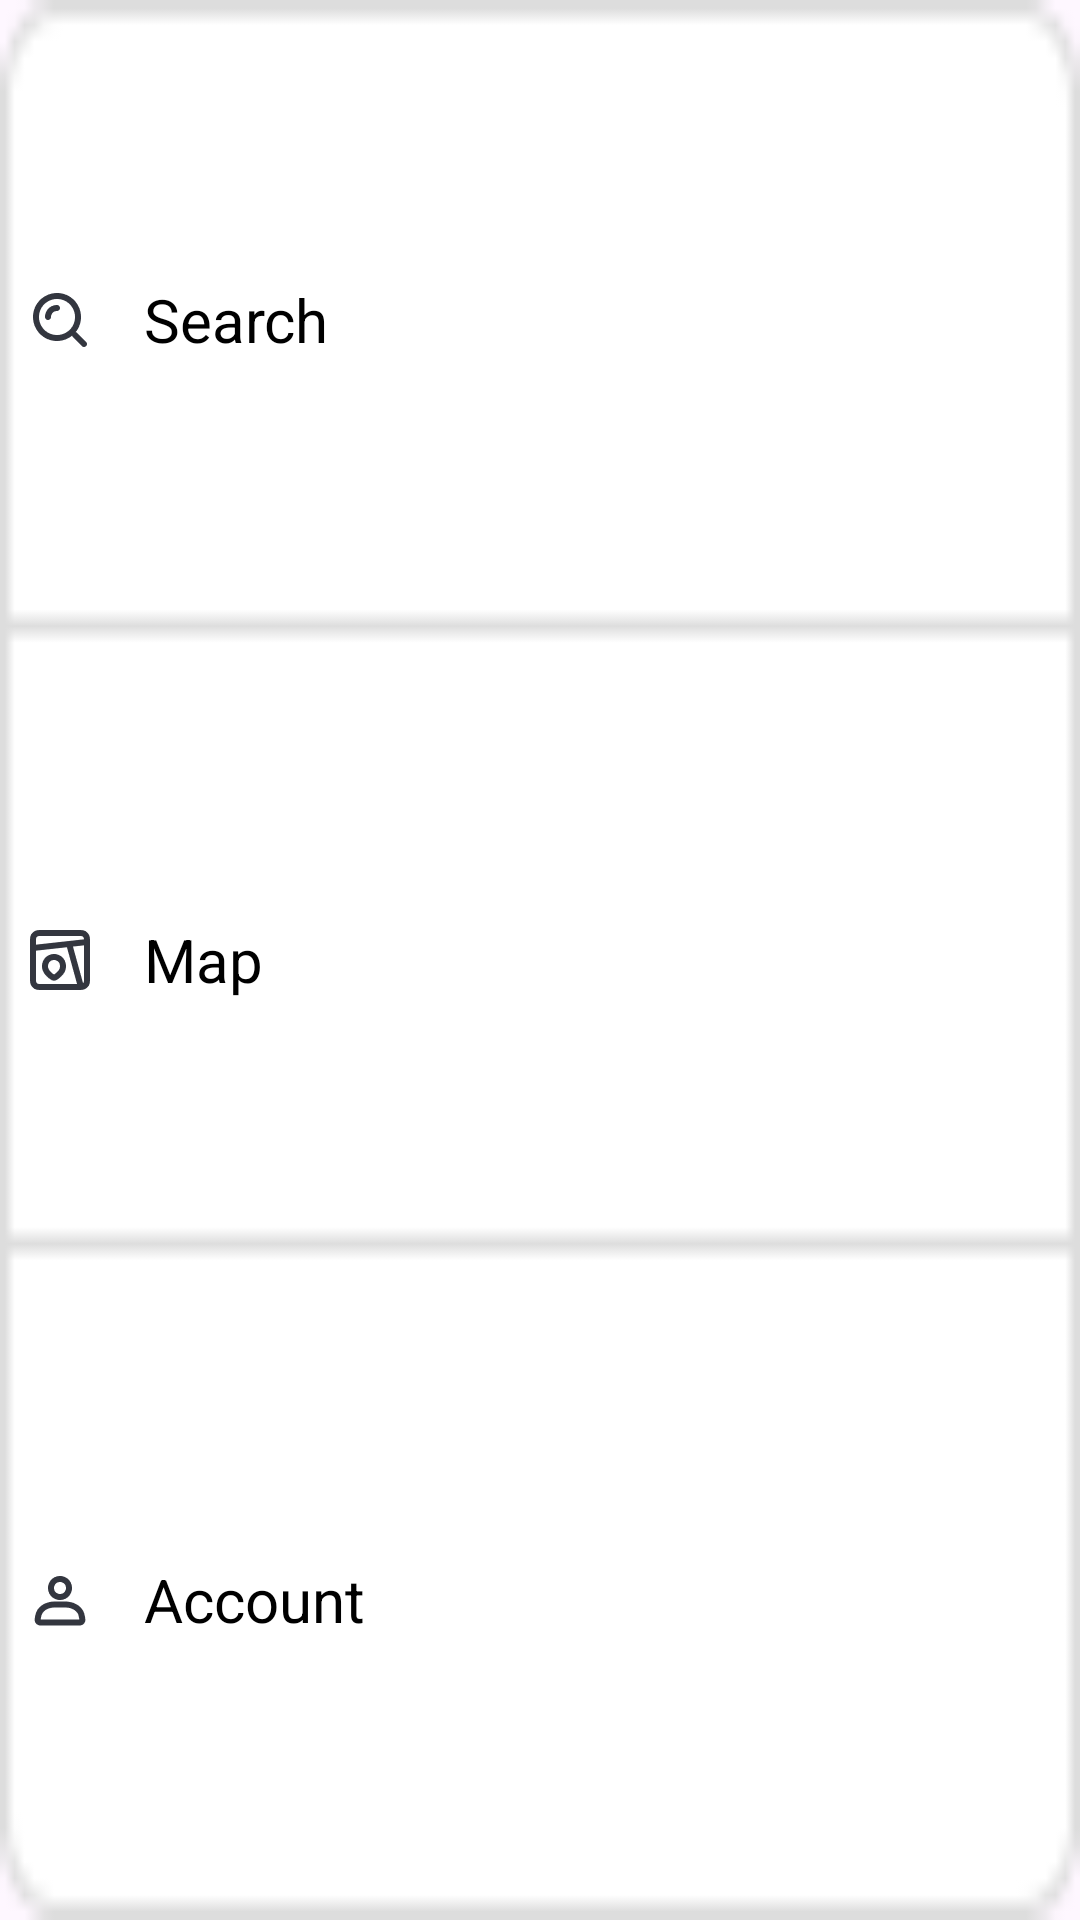

Icons on this 1080*1920 Android screen, each with the point to tap as [x,y]:
user: [60,1601]
